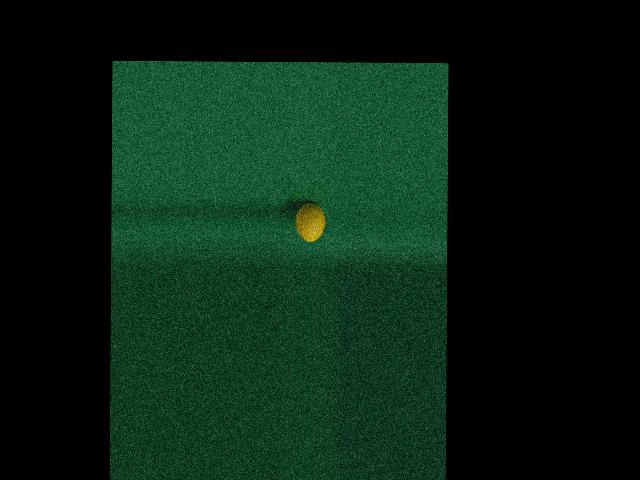egg: (296, 202, 326, 242)
